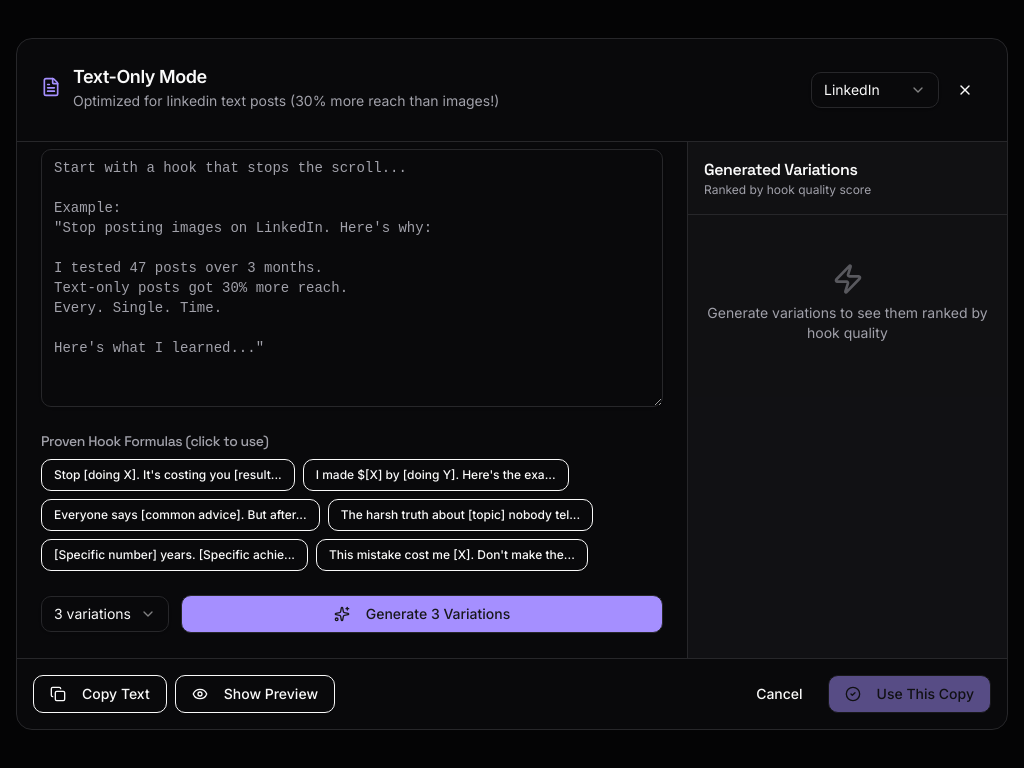
Test: TextOnlyMode - Copy Generation › populates variations panel after generation
The width and height of the screenshot is (1024, 768).
(page scrolled)
Click the button "Generate 3 Variations": click(422, 614) [181,595,663,633]
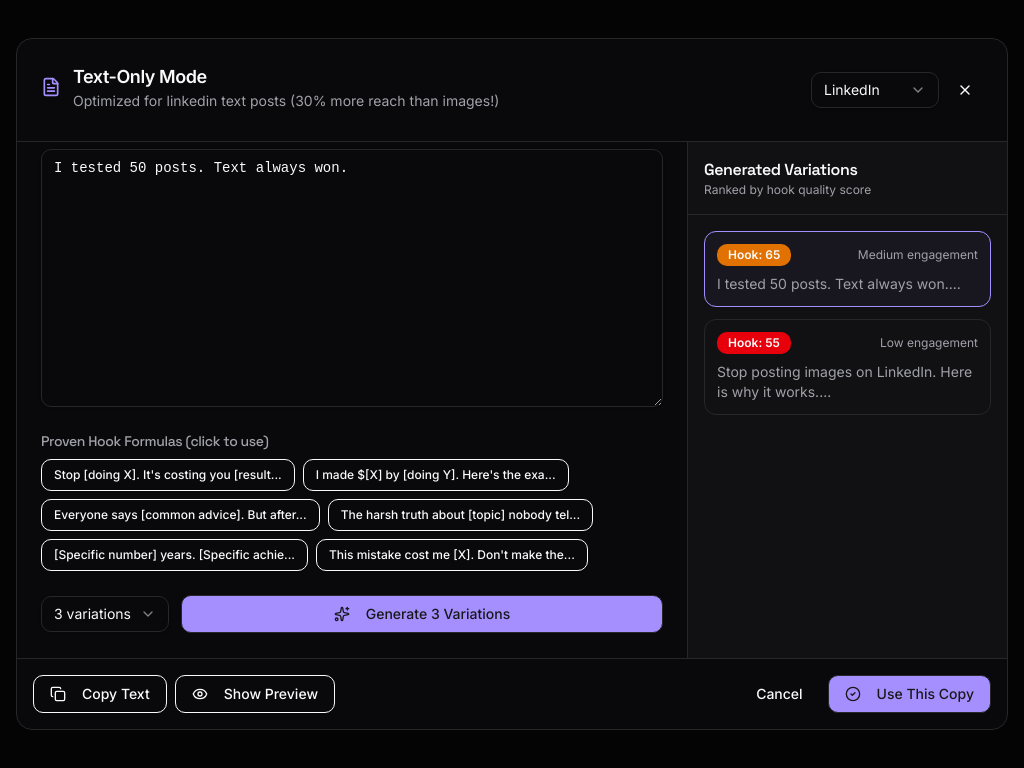
Now the text "Generate variations to see them ranked" is gone
